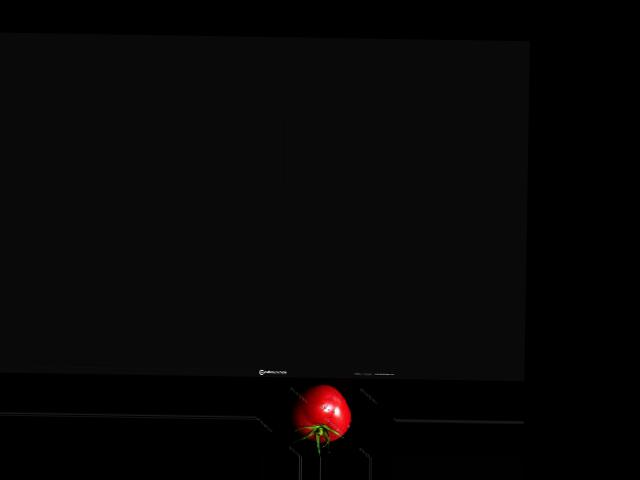tomato: (290, 383, 352, 442)
